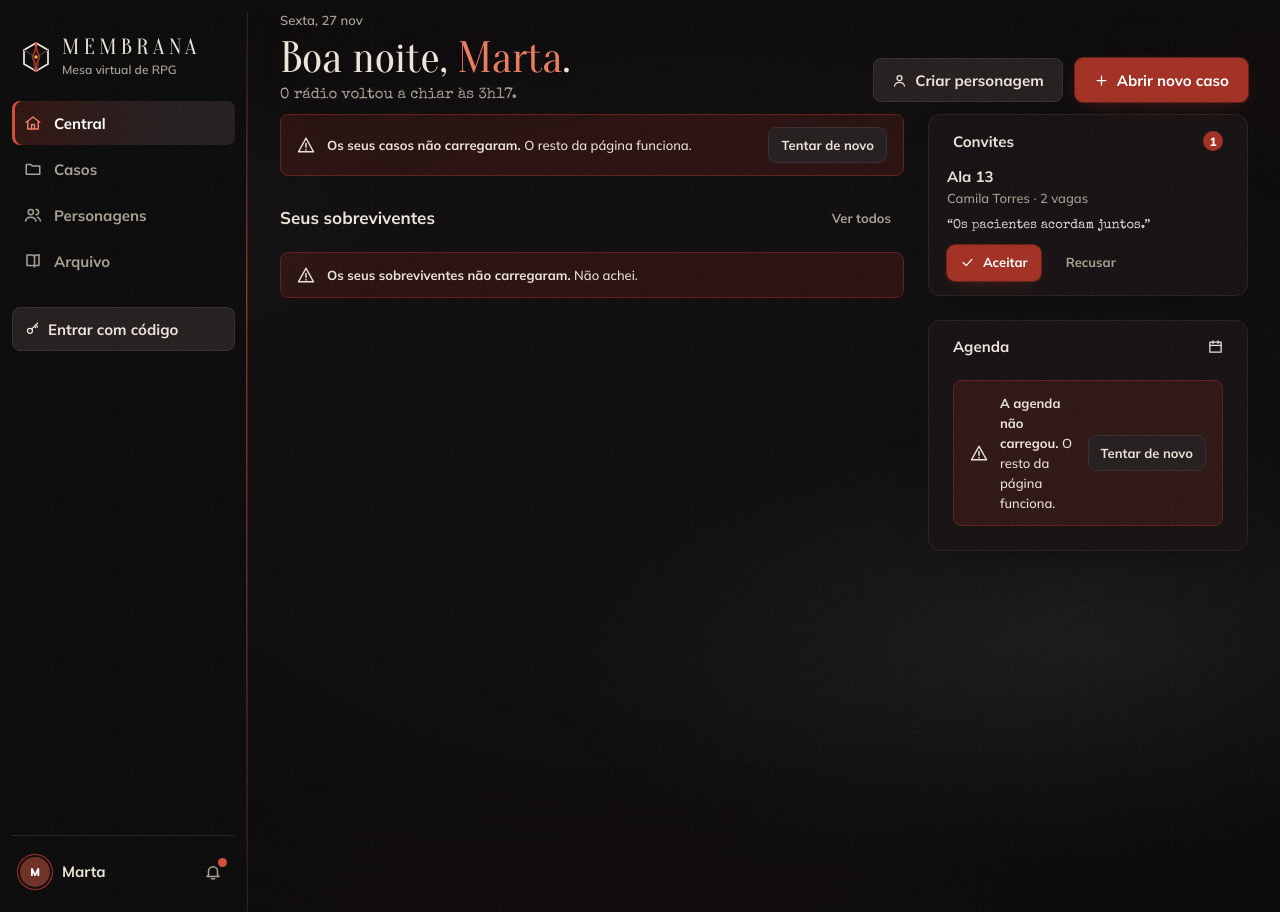
cada bloco falha sozinho › casos sem rede: o erro aparece no bloco, e os convites continuam de pé
This screenshot has width=1280, height=912.
Check: the text "Os seus casos não carregaram." is shown, box top-left (327, 137), bottom-right (521, 153)
Check: the text "A agenda não carregou." is shown, box top-left (1000, 395), bottom-right (1060, 451)
Click the button "Tentar de novo" in the row of "Os seus casos não carregaram.".
click(828, 145)  # box top-left (768, 127), bottom-right (887, 163)
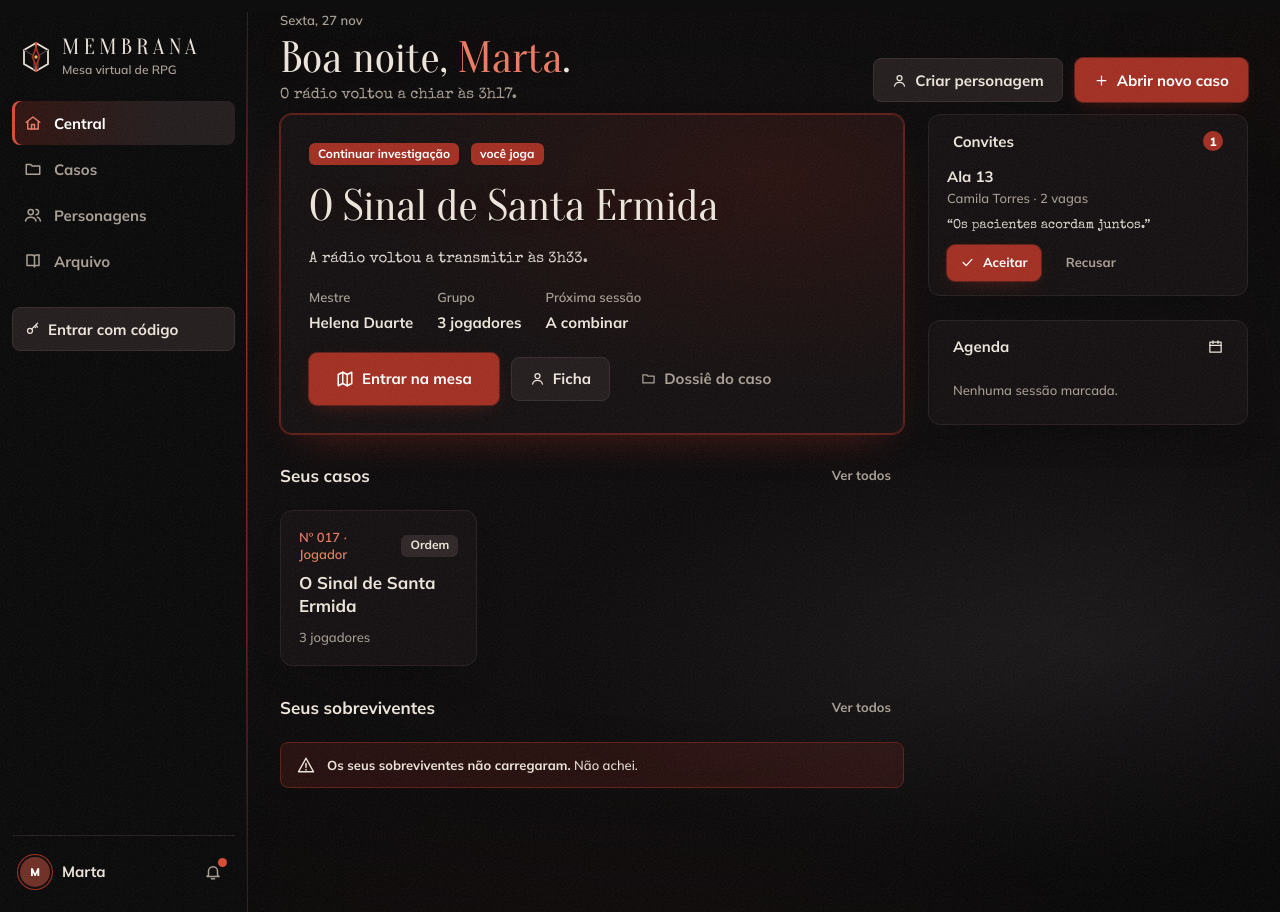
Check: the element named "." is shown, box top-left (280, 114), bottom-right (904, 434)
